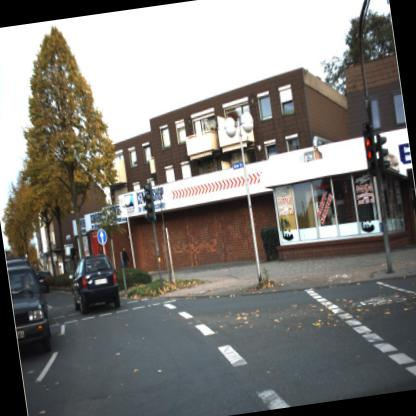mandatory: (95, 226, 110, 248)
